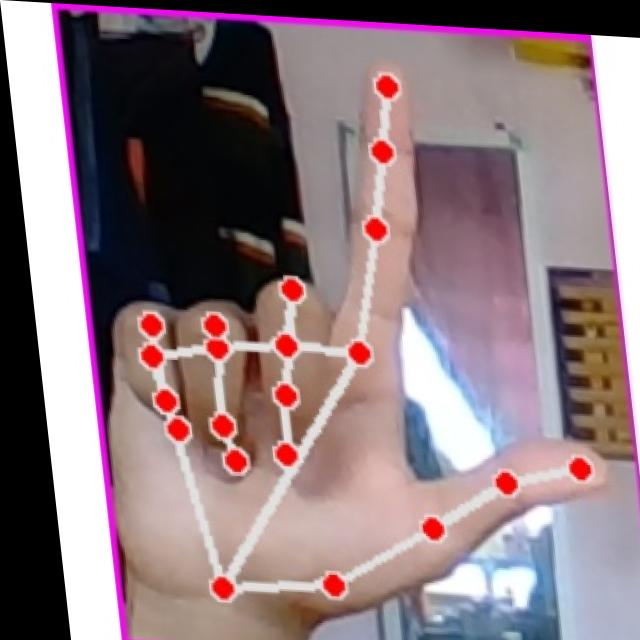L: (67, 33, 637, 640)
